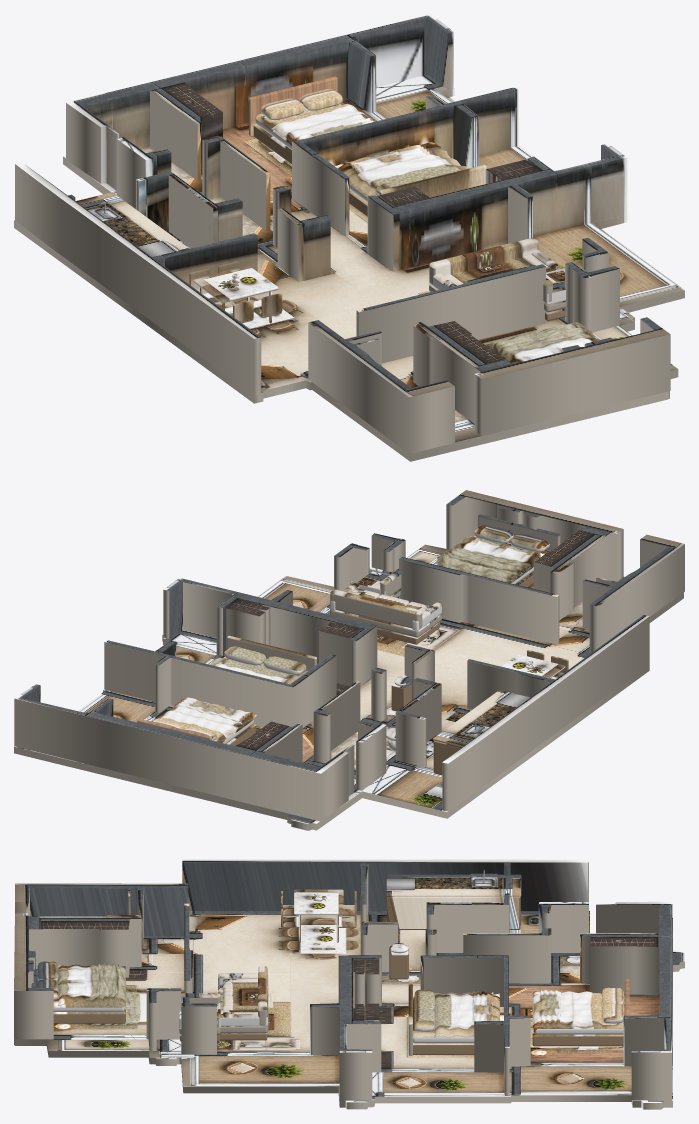
File: p6-02-u03-0112-image-model.glb
3 renders of one model, top to bottom at view 1: azimuth 30°, elevation 25°; view 2: azimuth 150°, elevation 25°; view 3: azimuth 270°, elevation 25°, orthographic. The views are drawn at different scales.
Parts seen in each view (by area): view 1: Partition walls, Apartment floor, Stone worktop, Draped bed linen.002, Sofa back, Draped bed linen, Marble dining top, Upholstered headboard.001, Draped bed linen.004, Upholstered headboard, Draped bed linen.003, Draped bed linen.005 (+2 smaller); view 2: Partition walls, Apartment floor, Stone worktop, Draped bed linen.004, Sofa back, Draped bed linen, Upholstered headboard.001, Draped bed linen.005, Upholstered headboard.002, Upholstered sofa frame, Draped bed linen.002, Draped bed linen.001 (+6 smaller); view 3: Partition walls, Apartment floor, Stone worktop, Kitchen cabinets, Draped bed linen.004, Draped bed linen.002, Draped bed linen, Marble dining top, Walnut upholstered base, Walnut upholstered base.002, Piped mattress, Draped bed linen.005 (+16 smaller).
Boxes of the visible parts, x1=… form: Partition walls: x1=15, y1=14, x2=670, y2=453; Apartment floor: x1=14, y1=75, x2=684, y2=461; Stone worktop: x1=75, y1=192, x2=189, y2=256; Draped bed linen.002: x1=335, y1=146, x2=460, y2=196; Sofa back: x1=429, y1=237, x2=538, y2=284; Draped bed linen: x1=266, y1=103, x2=368, y2=143; Marble dining top: x1=193, y1=266, x2=278, y2=303; Upholstered headboard.001: x1=379, y1=165, x2=486, y2=197; Draped bed linen.004: x1=485, y1=323, x2=599, y2=364; Upholstered headboard: x1=249, y1=76, x2=337, y2=136; Draped bed linen.003: x1=336, y1=142, x2=447, y2=176; Draped bed linen.005: x1=487, y1=322, x2=592, y2=355; Partition walls: x1=14, y1=490, x2=684, y2=821; Apartment floor: x1=14, y1=544, x2=683, y2=830; Stone worktop: x1=432, y1=690, x2=530, y2=747; Draped bed linen.004: x1=434, y1=536, x2=543, y2=580; Sofa back: x1=330, y1=589, x2=422, y2=628; Draped bed linen: x1=159, y1=698, x2=256, y2=740; Upholstered headboard.001: x1=227, y1=635, x2=316, y2=670; Draped bed linen.005: x1=438, y1=548, x2=526, y2=577; Upholstered headboard.002: x1=478, y1=514, x2=560, y2=548; Upholstered sofa frame: x1=330, y1=609, x2=441, y2=637; Draped bed linen.002: x1=209, y1=658, x2=299, y2=684; Draped bed linen.001: x1=173, y1=697, x2=253, y2=724; Partition walls: x1=14, y1=859, x2=672, y2=1100; Apartment floor: x1=14, y1=908, x2=684, y2=1109; Stone worktop: x1=386, y1=874, x2=521, y2=896; Kitchen cabinets: x1=387, y1=896, x2=520, y2=929; Draped bed linen.004: x1=57, y1=964, x2=125, y2=1006; Draped bed linen.002: x1=434, y1=992, x2=499, y2=1037; Draped bed linen: x1=532, y1=991, x2=602, y2=1028; Marble dining top: x1=294, y1=889, x2=343, y2=914; Walnut upholstered base: x1=532, y1=1028, x2=623, y2=1046; Walnut upholstered base.002: x1=53, y1=977, x2=125, y2=1023; Piped mattress: x1=533, y1=995, x2=625, y2=1034; Draped bed linen.005: x1=97, y1=963, x2=118, y2=1005.
Size of the model in its own units: 9.92 by 1.3 by 14.41.
14 materials, 3 textured.
